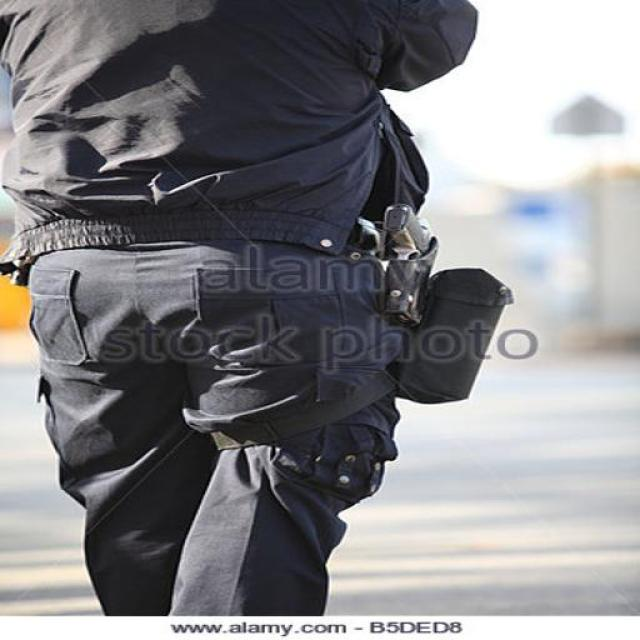pistol: (379, 201, 440, 320)
